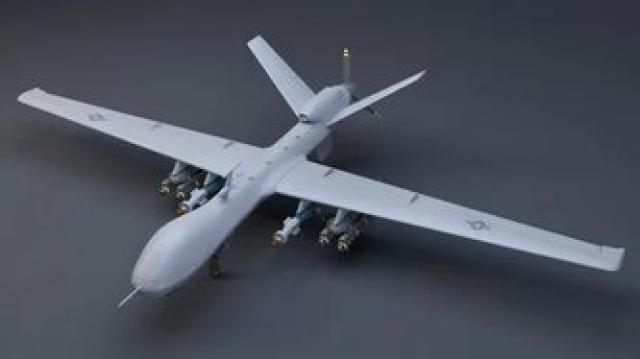military drone: (16, 33, 625, 308)
